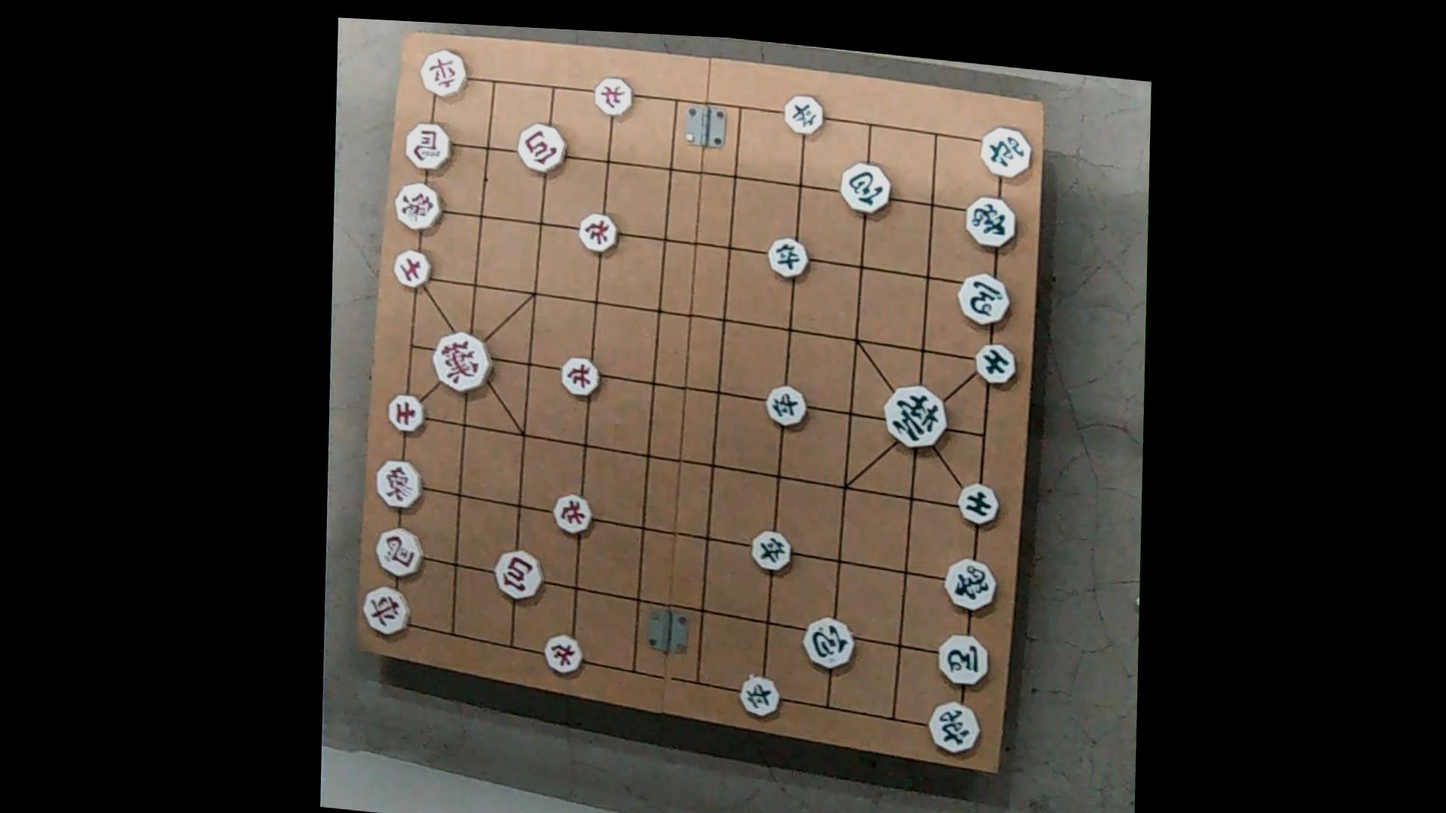cha_green: (929, 697, 980, 759), (980, 124, 1031, 184)
cha_red: (418, 46, 468, 104), (361, 581, 408, 639)
jol_green: (769, 232, 808, 282), (767, 382, 806, 431), (737, 671, 776, 720), (752, 526, 790, 574), (783, 92, 822, 138)
jol_red: (560, 355, 599, 400), (578, 209, 616, 255), (552, 492, 590, 537), (544, 629, 582, 674), (594, 75, 631, 120)
ma_green: (956, 271, 1008, 329), (936, 629, 987, 687)
ma_red: (372, 523, 423, 582), (404, 117, 451, 172)
po_green: (836, 158, 891, 216), (804, 614, 853, 672)
po_red: (495, 547, 541, 604), (520, 119, 566, 172)
sa_green: (975, 340, 1017, 387), (957, 482, 998, 528)
sa_red: (392, 246, 432, 290), (386, 391, 424, 437)
sang_green: (962, 192, 1017, 252), (944, 556, 995, 614)
sang_red: (375, 453, 423, 510), (392, 177, 440, 232)
wang_green: (884, 383, 947, 453)
wang_red: (431, 330, 492, 395)
